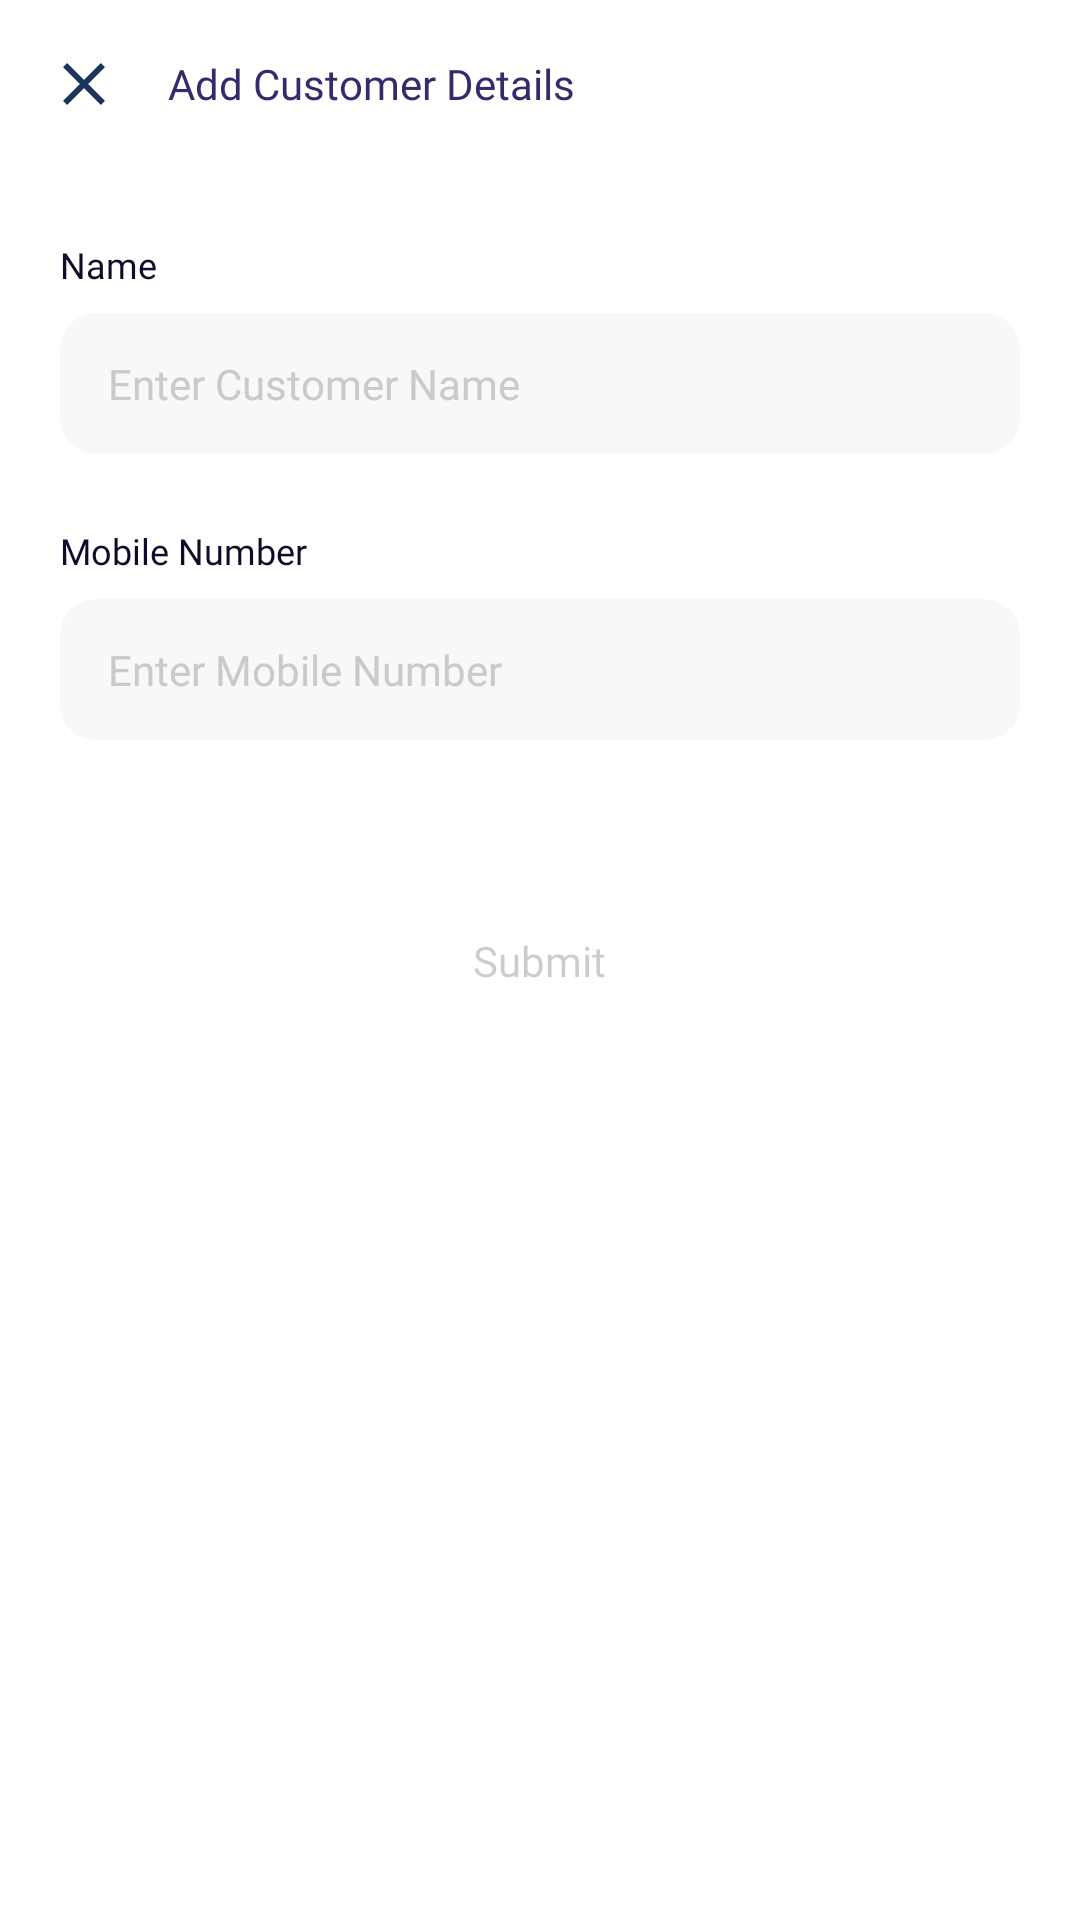

Icons on this 1080×1920 Android screen, each with the point to tap as (x,y):
close: (84,84)
